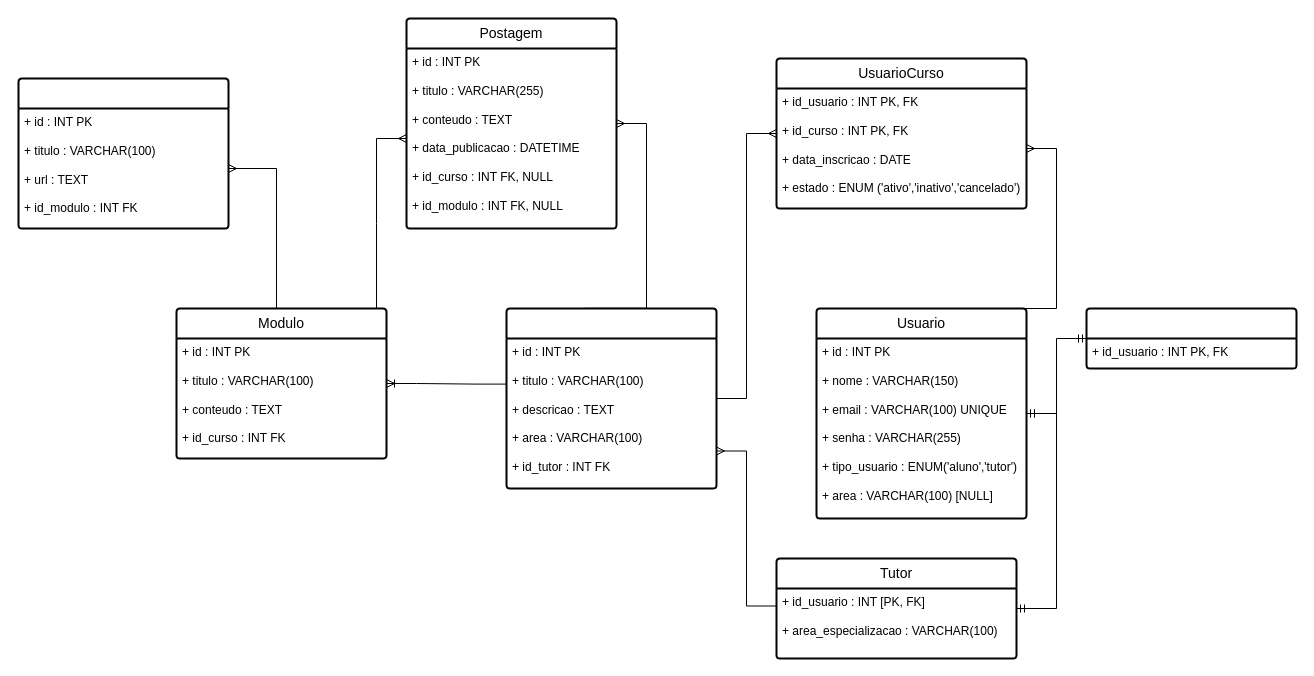
Image size: 1314x676. Some labels were removed from this diagram. The shapes that lost their labels are listed below. From the top down, each one's box as (x1, y1, x2, y2) in pixels, then its label:
(17, 77, 229, 229): Videoaula
(1085, 307, 1297, 369): Aluno
(505, 307, 717, 489): Curso
